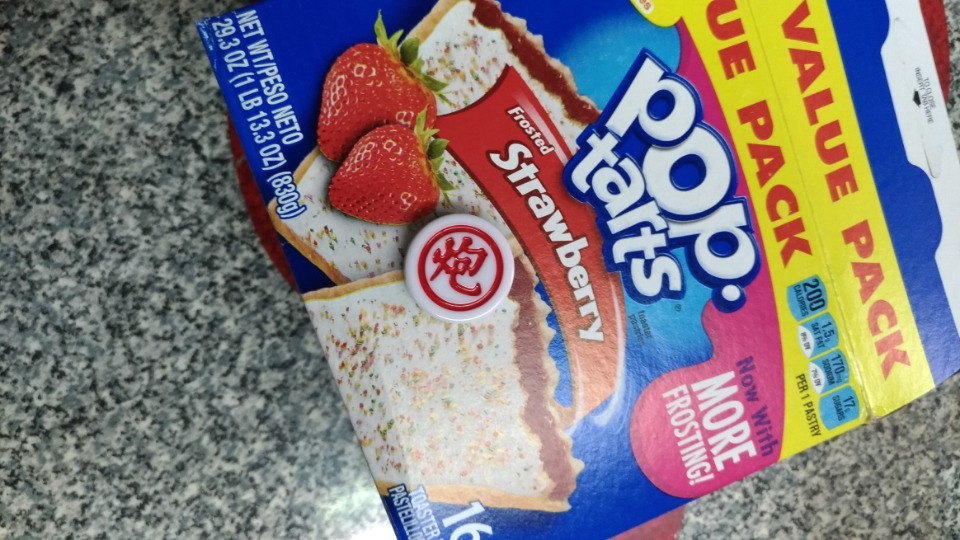r-cannon: (391, 202, 528, 340)
